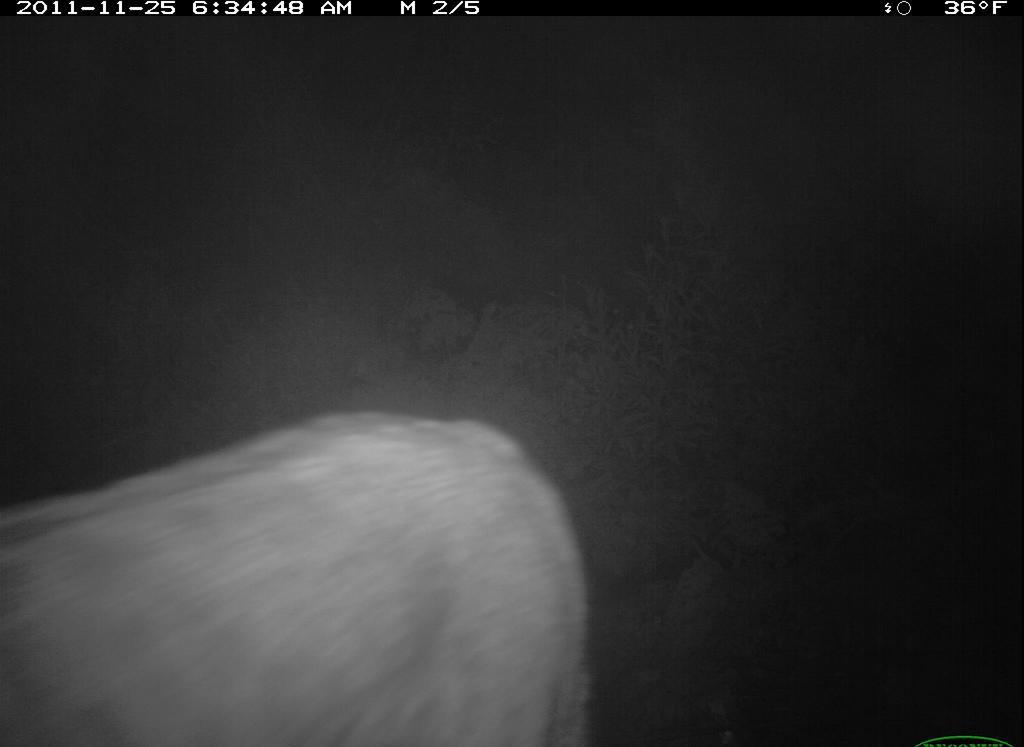bobcat: (4, 345, 609, 745)
